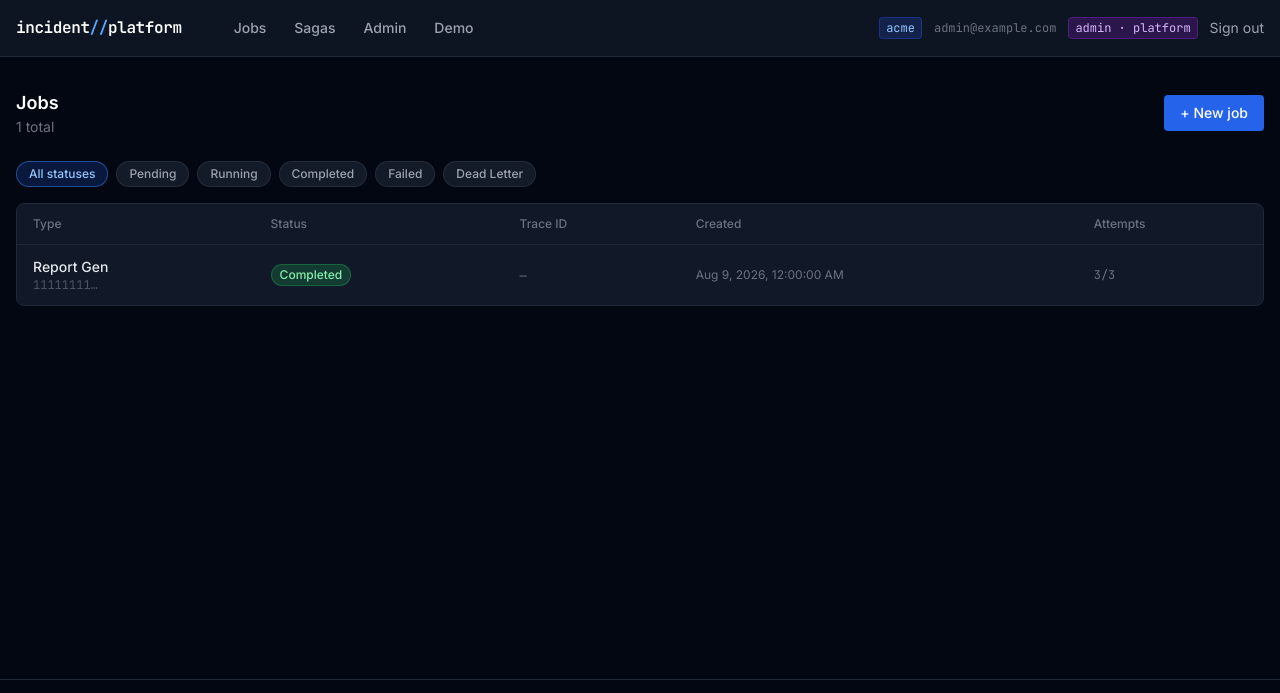
Test: dashboard list stays consistent with its own filter › does not insert a created job into a list that filters it out
Expected: the text "Report Gen" is shown, x1=33 y1=258 x2=108 y2=275
// Filter to Completed — a brand-new `pending` job does not belong here.
Click the button "Completed".
click(323, 174)  # box x1=279 y1=161 x2=367 y2=187
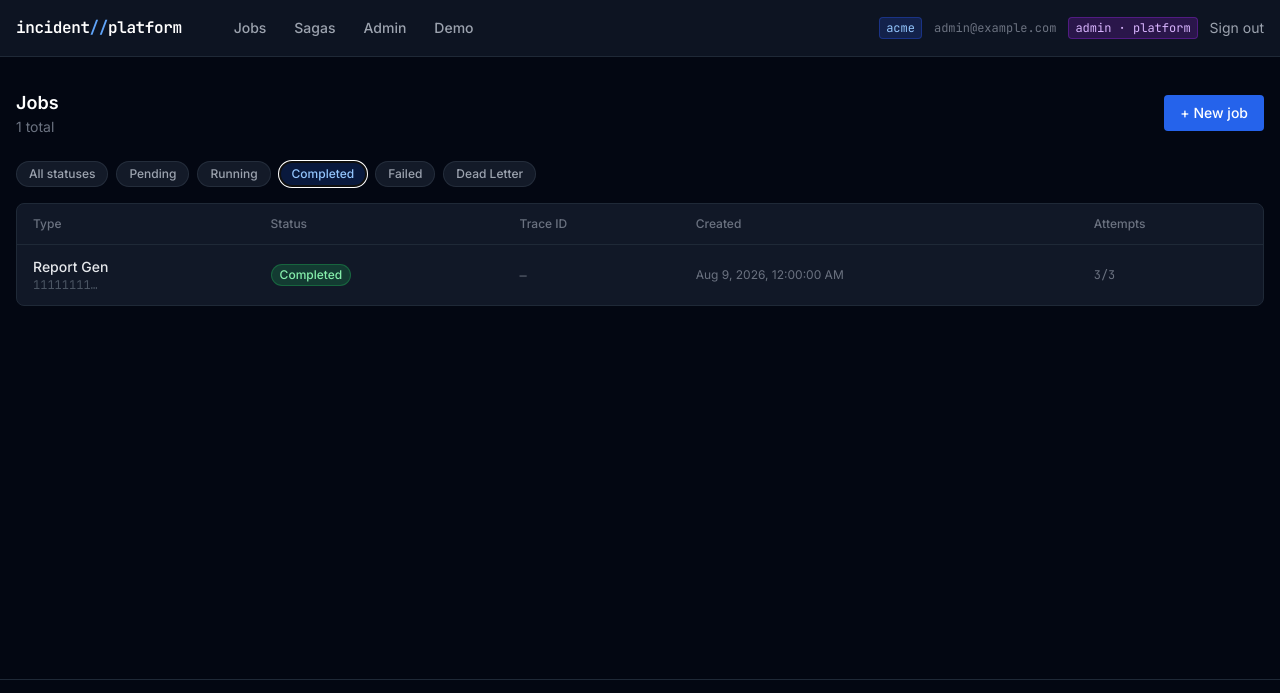
Click the button "+ New job".
click(1214, 113)  # box x1=1164 y1=95 x2=1264 y2=131
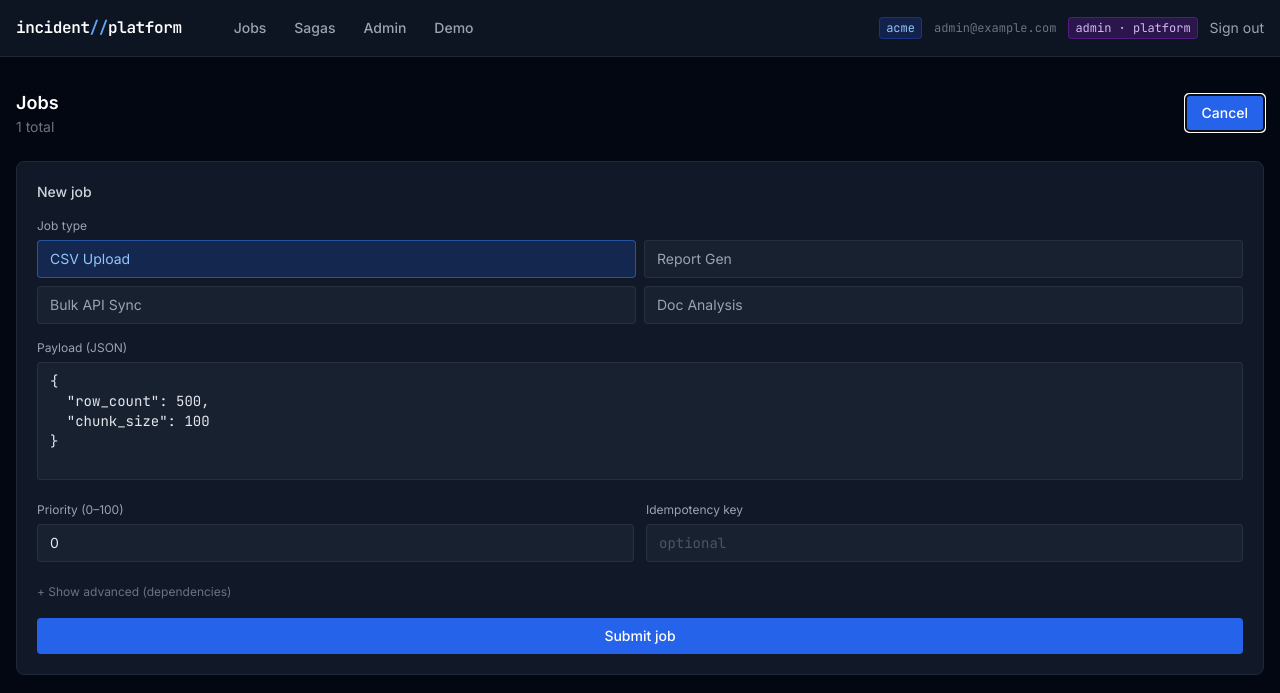
Click the button "Submit job".
click(640, 636)  # box x1=37 y1=618 x2=1243 y2=654
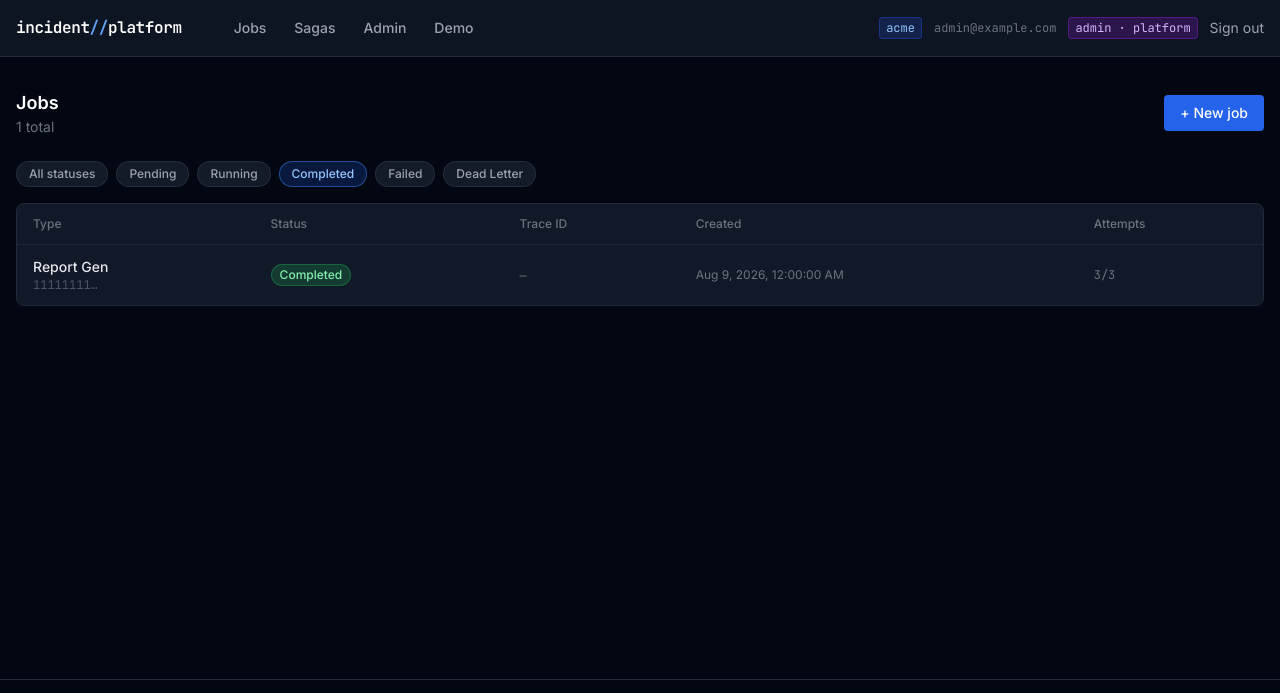
Expected: the button "Doc Analysis" is gone
